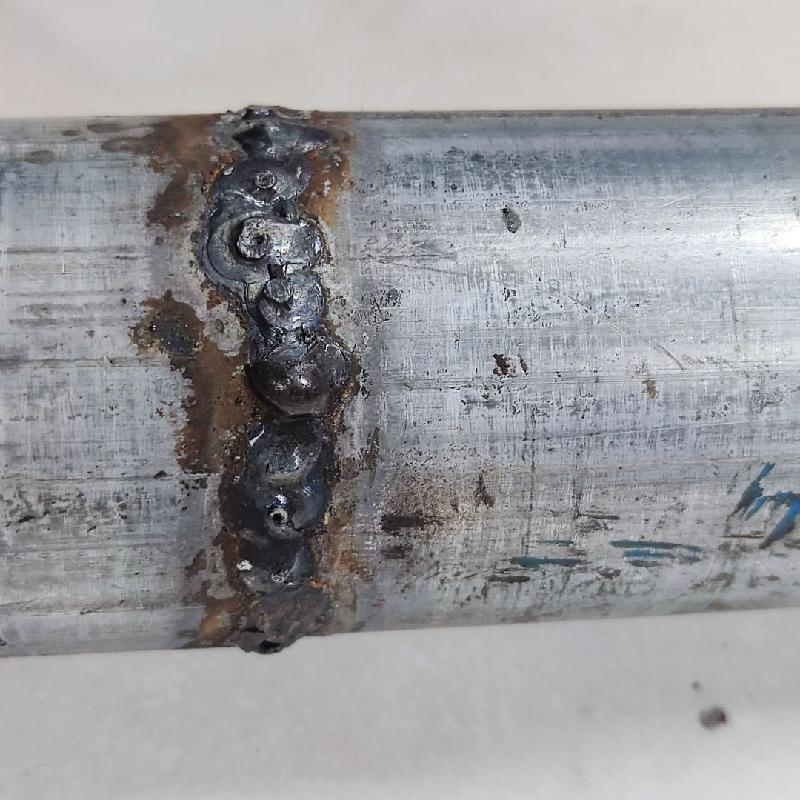Weld: (238, 418, 332, 592), (243, 360, 343, 413)
wrong_size: (225, 102, 329, 356)
